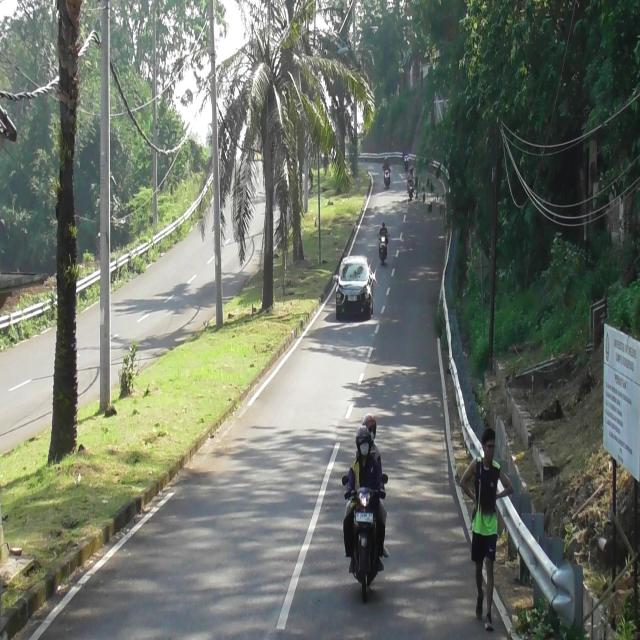motorcycle: (344, 471, 391, 592), (380, 236, 388, 265), (407, 179, 416, 201), (383, 166, 391, 190), (403, 154, 409, 169)
person: (344, 425, 386, 501), (363, 415, 378, 449), (378, 221, 389, 241), (383, 155, 390, 172), (407, 168, 414, 182), (402, 147, 409, 157)
rider_region: (346, 407, 392, 597), (378, 217, 388, 268), (382, 154, 392, 188), (406, 166, 416, 200), (402, 146, 409, 170)
